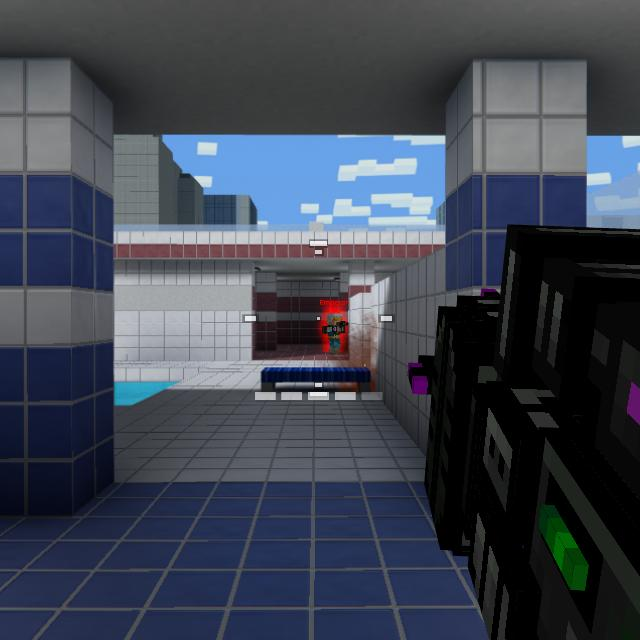Enemy: (322, 313, 345, 354)
